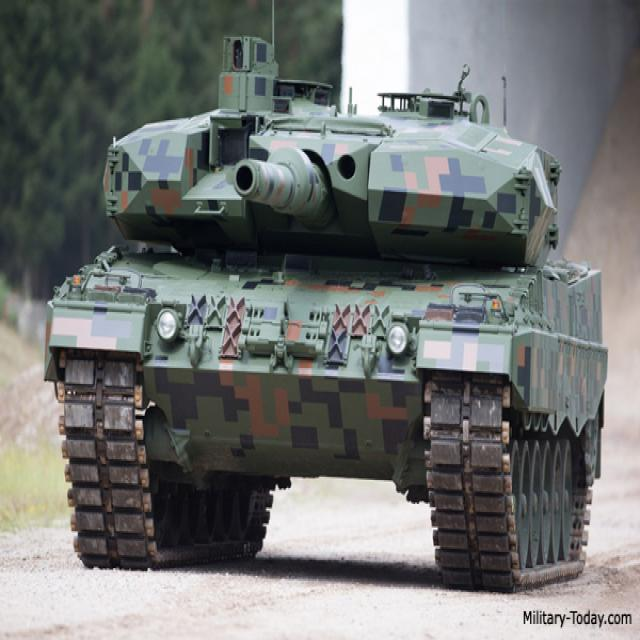Tank: (76, 46, 602, 569)
